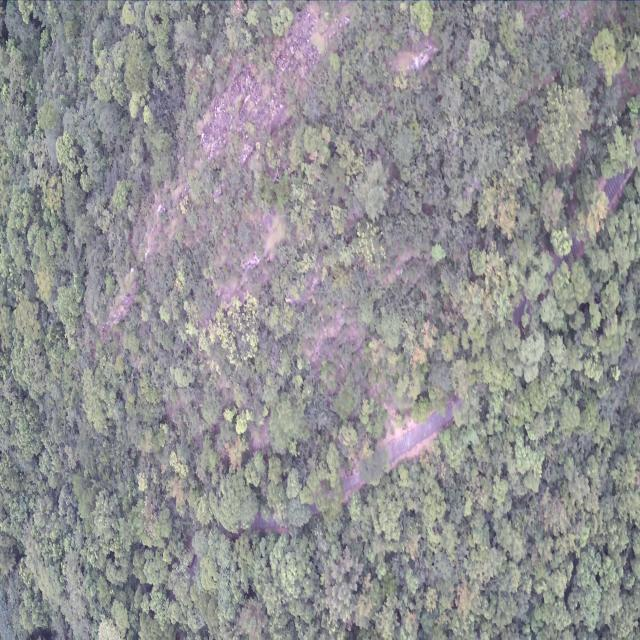drone: (411, 52, 424, 72)
